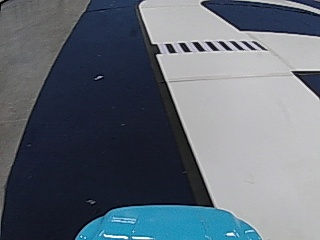CrossWalk: (153, 37, 265, 54)
